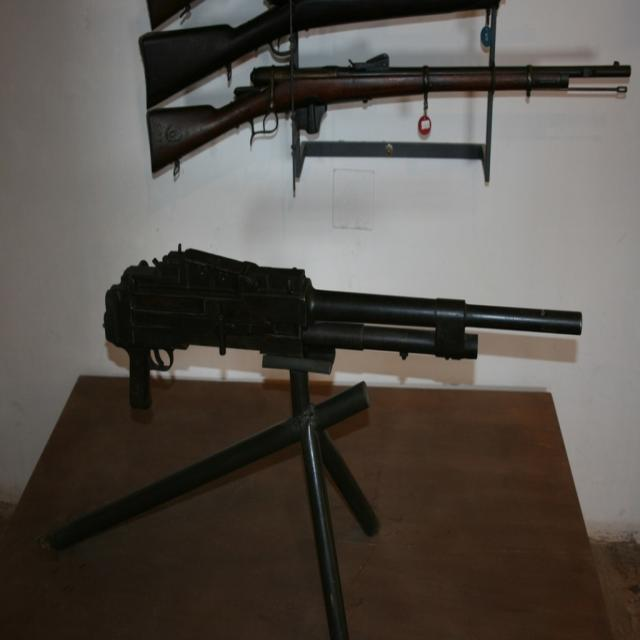weapon: (35, 0, 632, 640)
